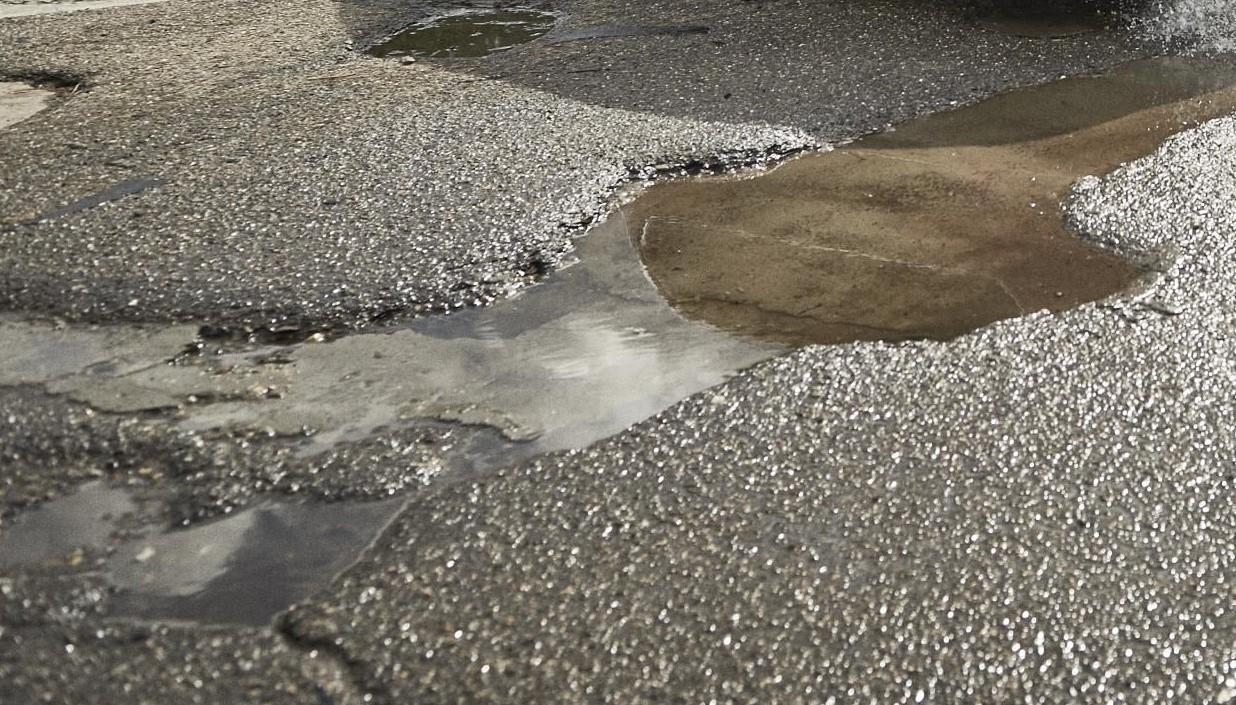pothole: (6, 42, 1236, 645), (348, 0, 566, 60), (0, 50, 92, 125)
